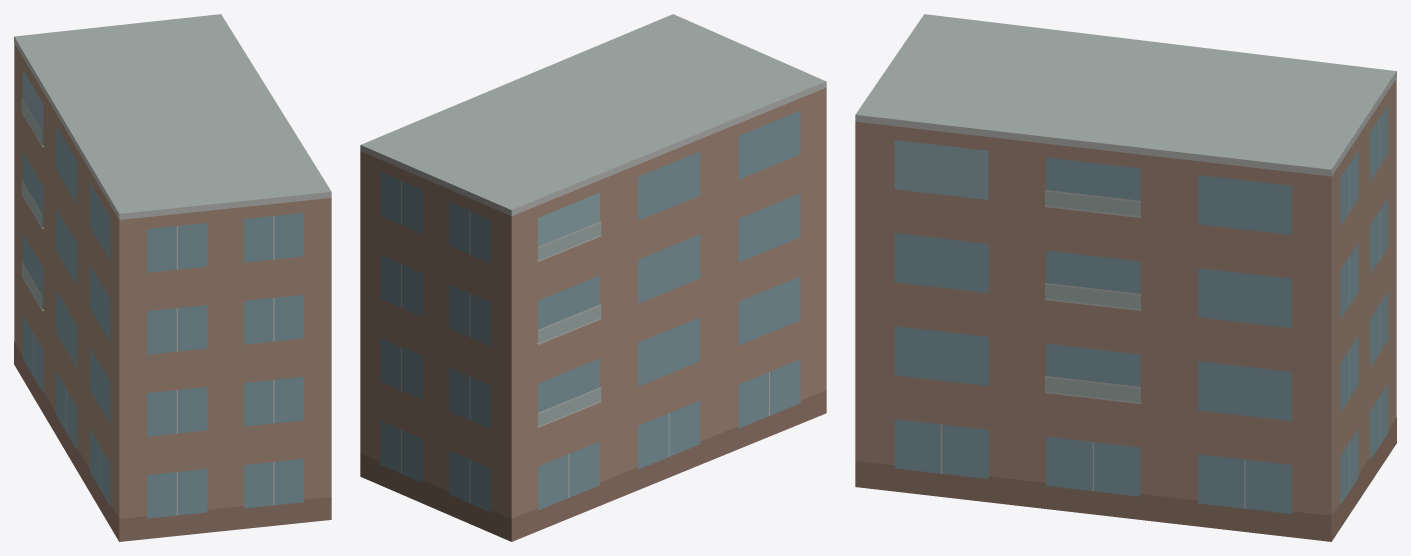
The model's file is survey-upis-33039965.glb.
3 renders of one model, left to right at view 1: azimuth 30°, elevation 25°; view 2: azimuth 150°, elevation 25°; view 3: azimuth 270°, elevation 25°, orthographic. The views are drawn at different scales.
Visible parts, largest first — view 1: survey-upis-33039965.tmp; view 2: survey-upis-33039965.tmp; view 3: survey-upis-33039965.tmp.
Part boxes in pixels (bbox=[...]): survey-upis-33039965.tmp: bbox=[14, 14, 331, 541]; survey-upis-33039965.tmp: bbox=[360, 14, 826, 541]; survey-upis-33039965.tmp: bbox=[855, 14, 1396, 541].
Size of the model in its own units: 11.88 by 13.22 by 17.45.
